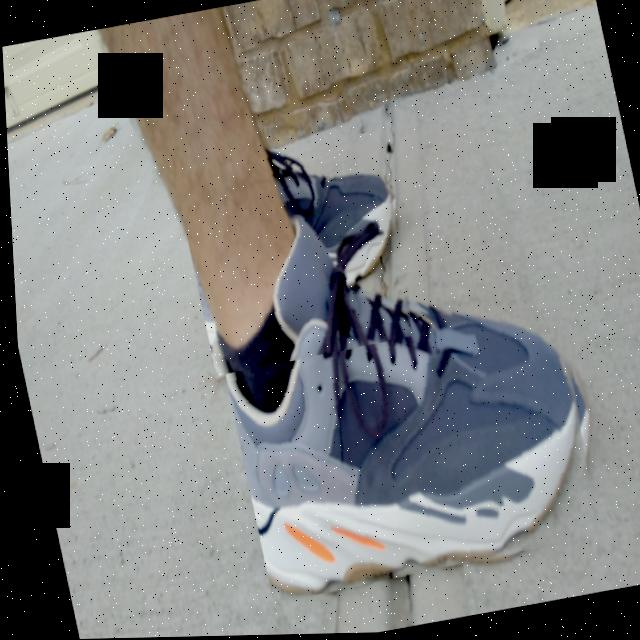shoe: (192, 178, 613, 607), (170, 131, 424, 378)
